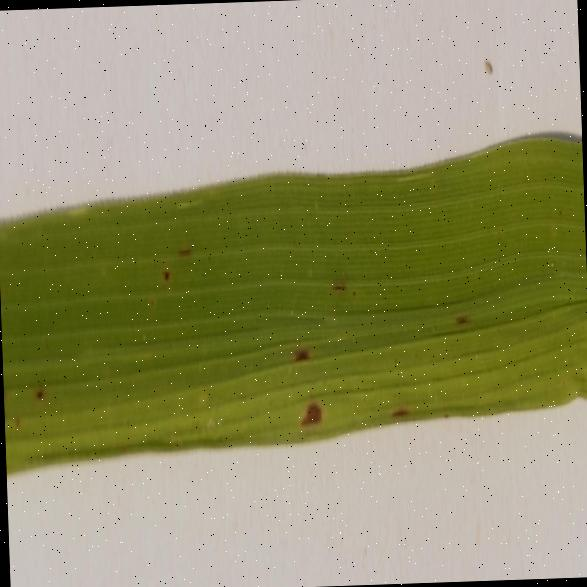Brown_Spot: (288, 324, 329, 430), (24, 366, 47, 413), (174, 232, 200, 264), (385, 400, 414, 419), (156, 257, 170, 286)
